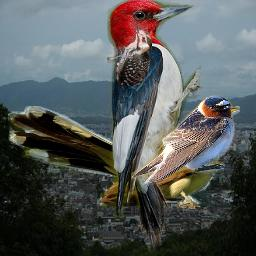Cuckoo: (8, 106, 240, 209)
Swallow: (131, 95, 235, 187)
Woodpecker: (103, 0, 209, 255), (107, 18, 152, 86)
